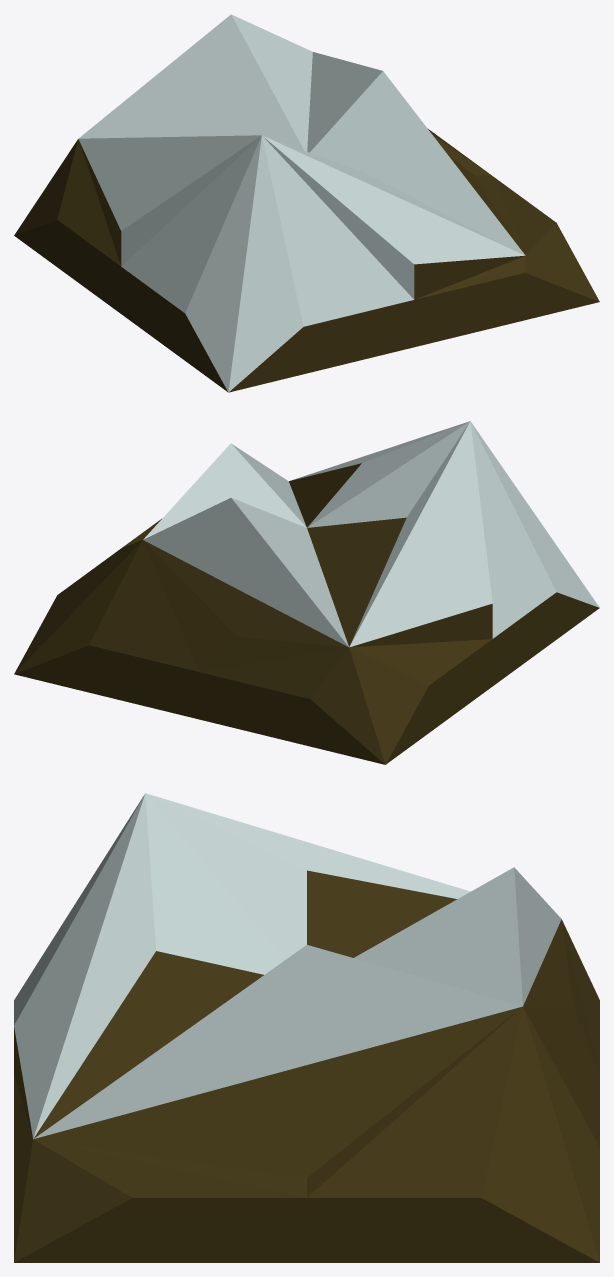
Rendered from mountains.fbx.
3 renders of one model, top to bottom at view 1: azimuth 30°, elevation 25°; view 2: azimuth 150°, elevation 25°; view 3: azimuth 270°, elevation 25°, orthographic. The views are drawn at different scales.
Visible parts, largest first — view 1: Cube; view 2: Cube; view 3: Cube.
Boxes of the visible parts, x1,y1,x2,y2 form: Cube: [14, 14, 599, 392]; Cube: [14, 421, 599, 764]; Cube: [14, 793, 599, 1262].
Bounding box in the file's own units: 819 × 426 × 819.
